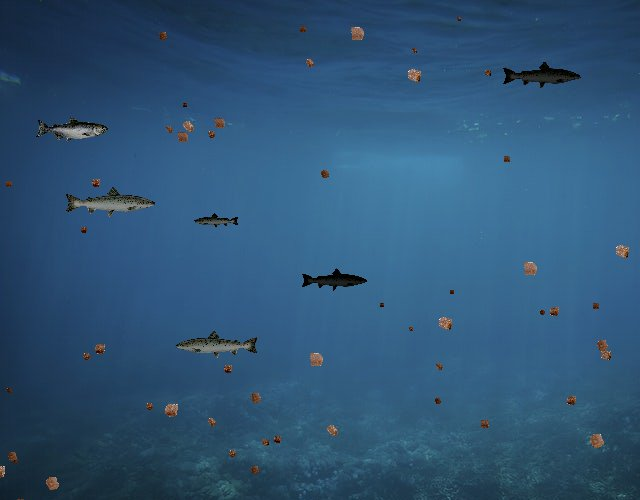Fish: (64, 185, 158, 219), (174, 329, 260, 360), (502, 60, 583, 89), (36, 117, 109, 143), (301, 268, 369, 292), (194, 213, 241, 230)
Pellet: (157, 396, 185, 424), (176, 114, 201, 139), (320, 419, 344, 443), (2, 446, 23, 467), (161, 122, 178, 139), (78, 348, 94, 364), (480, 66, 494, 80), (536, 306, 549, 319)
